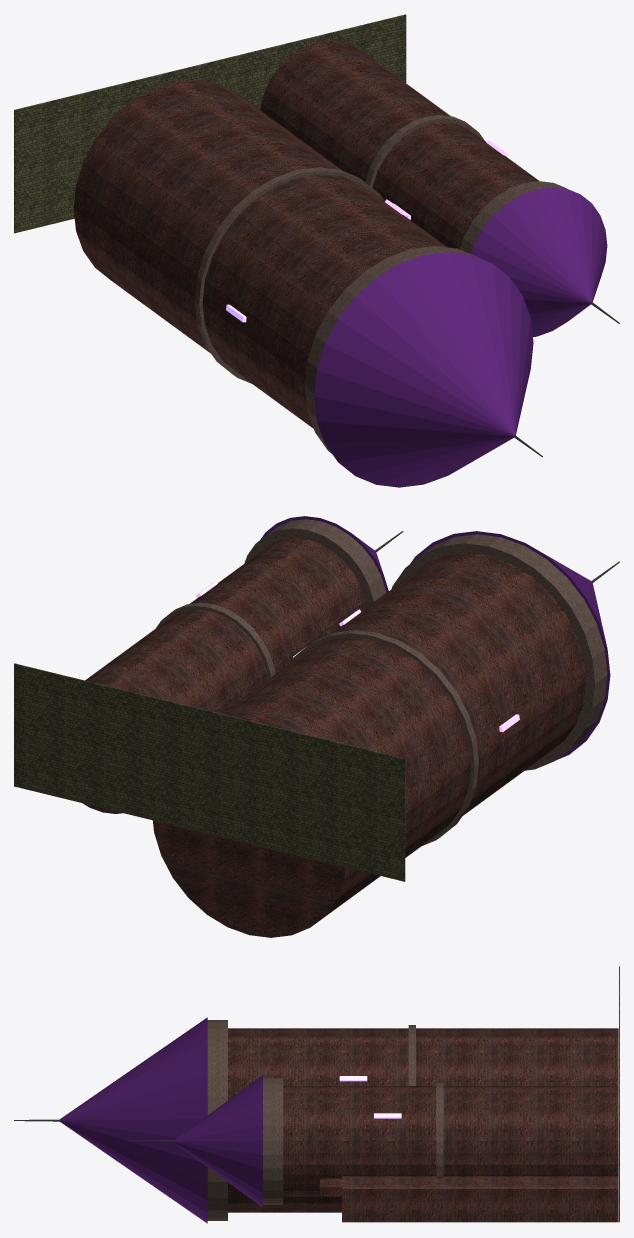
File: keep_t0_5.gltf
3 views of the same model, one above another, from view 1: azimuth 30°, elevation 25°; view 2: azimuth 150°, elevation 25°; view 3: azimuth 270°, elevation 25° (orthographic). The views are drawn at different scales.
Parts seen in each view (by area): view 1: keep_t0_5_wallg_out, keep_t0_5_banner_p, keep_t0_5_ground, keep_t0_5_stone; view 2: keep_t0_5_wallg_out, keep_t0_5_ground, keep_t0_5_stone, keep_t0_5_banner_p; view 3: keep_t0_5_wallg_out, keep_t0_5_banner_p, keep_t0_5_wallg, keep_t0_5_stone.
Boxes of the visible parts, bbox=[...] form: keep_t0_5_wallg_out: bbox=[73, 40, 538, 428]; keep_t0_5_banner_p: bbox=[314, 187, 607, 487]; keep_t0_5_ground: bbox=[14, 14, 406, 233]; keep_t0_5_stone: bbox=[194, 115, 566, 453]; keep_t0_5_wallg_out: bbox=[83, 537, 586, 937]; keep_t0_5_ground: bbox=[14, 663, 405, 881]; keep_t0_5_stone: bbox=[155, 519, 607, 845]; keep_t0_5_banner_p: bbox=[260, 516, 610, 759]; keep_t0_5_wallg_out: bbox=[228, 1028, 618, 1212]; keep_t0_5_banner_p: bbox=[60, 1017, 262, 1223]; keep_t0_5_wallg: bbox=[320, 1176, 618, 1222]; keep_t0_5_stone: bbox=[207, 1020, 443, 1220].
Bounding box in the file's own units: 40 × 22.9 × 65.74.
7 materials, 4 textured.
